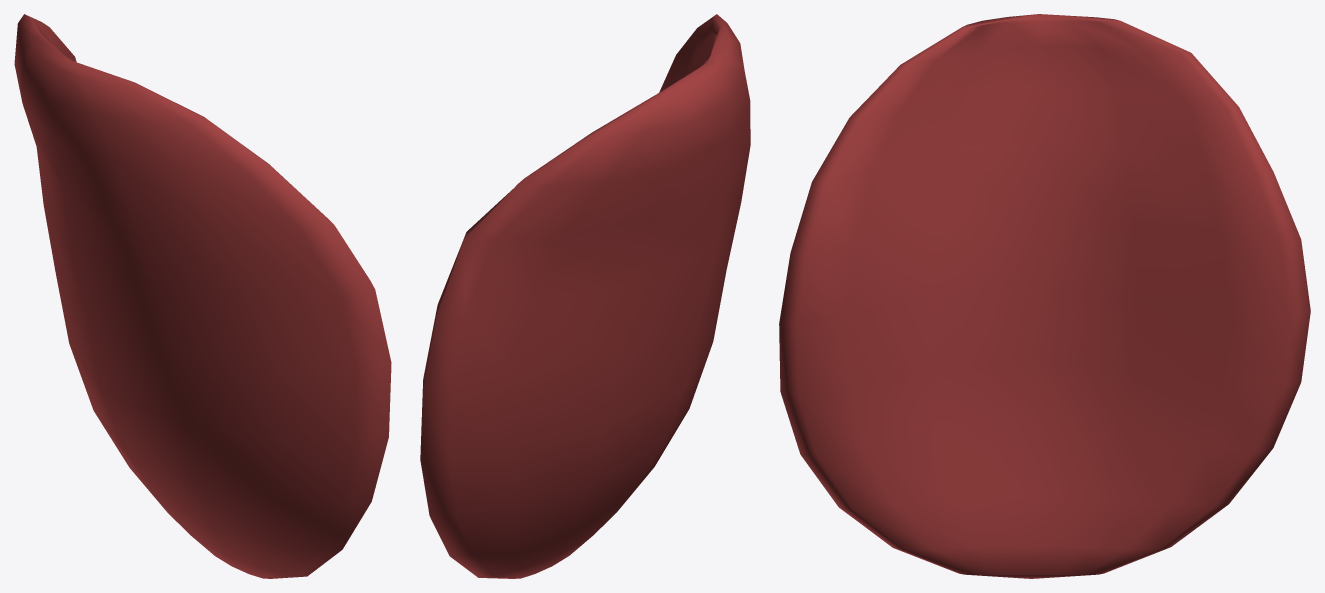
File: subcutaneous-trochanteric-bursa-r.glb
The picture shows the model from 3 angles, left to right: view 1: azimuth 30°, elevation 25°; view 2: azimuth 150°, elevation 25°; view 3: azimuth 270°, elevation 25°; orthographic projection. The views are drawn at different scales.
Parts seen in each view (by area): view 1: Subcutaneous trochanteric bursa.r; view 2: Subcutaneous trochanteric bursa.r; view 3: Subcutaneous trochanteric bursa.r.
Part boxes in pixels (x1,y1,x2,y2): Subcutaneous trochanteric bursa.r: [14, 14, 391, 578]; Subcutaneous trochanteric bursa.r: [420, 14, 750, 578]; Subcutaneous trochanteric bursa.r: [779, 14, 1310, 578].
Bounding box in the file's own units: 0.012 × 0.0295 × 0.0288.
